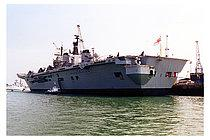MIL_Ship: (15, 35, 186, 93)
